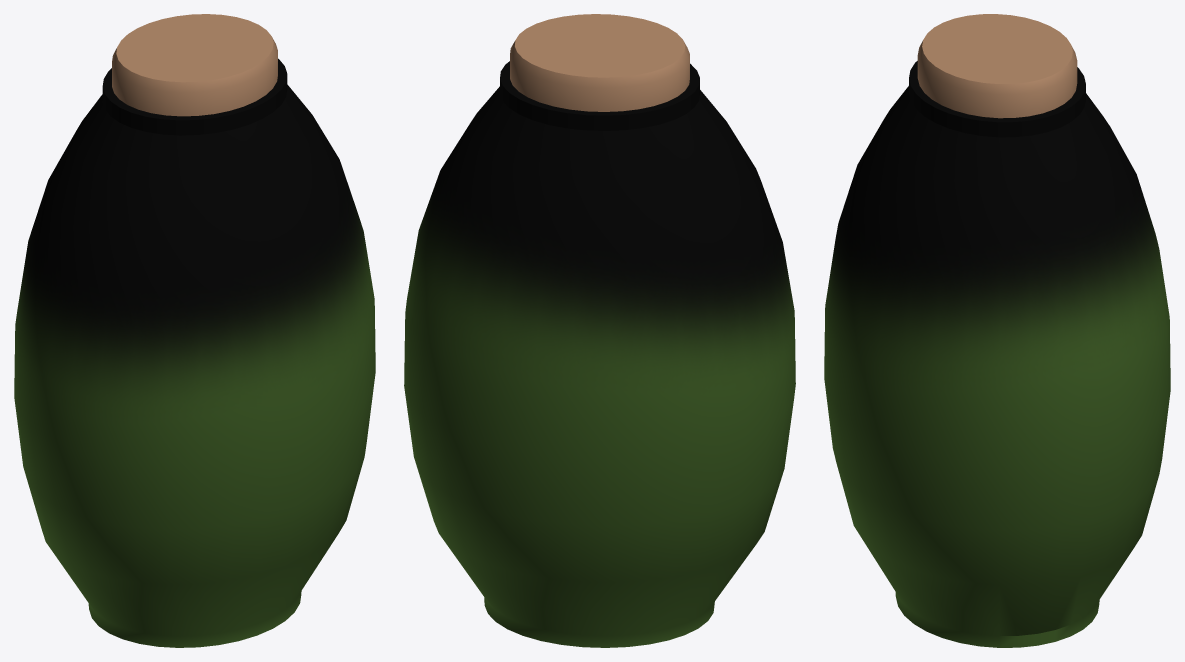
The model's file is pote.fbx.
3 renders of one model, left to right at view 1: azimuth 30°, elevation 25°; view 2: azimuth 150°, elevation 25°; view 3: azimuth 270°, elevation 25°, orthographic.
Visible parts, largest first — view 1: POTE.002; view 2: POTE.002; view 3: POTE.002.
Boxes of the visible parts, box(x1,y1,x2,y2) form: POTE.002: box(14, 14, 375, 647); POTE.002: box(404, 14, 795, 647); POTE.002: box(824, 14, 1170, 647).
Size of the model in its own units: 100 by 160 by 91.21.
